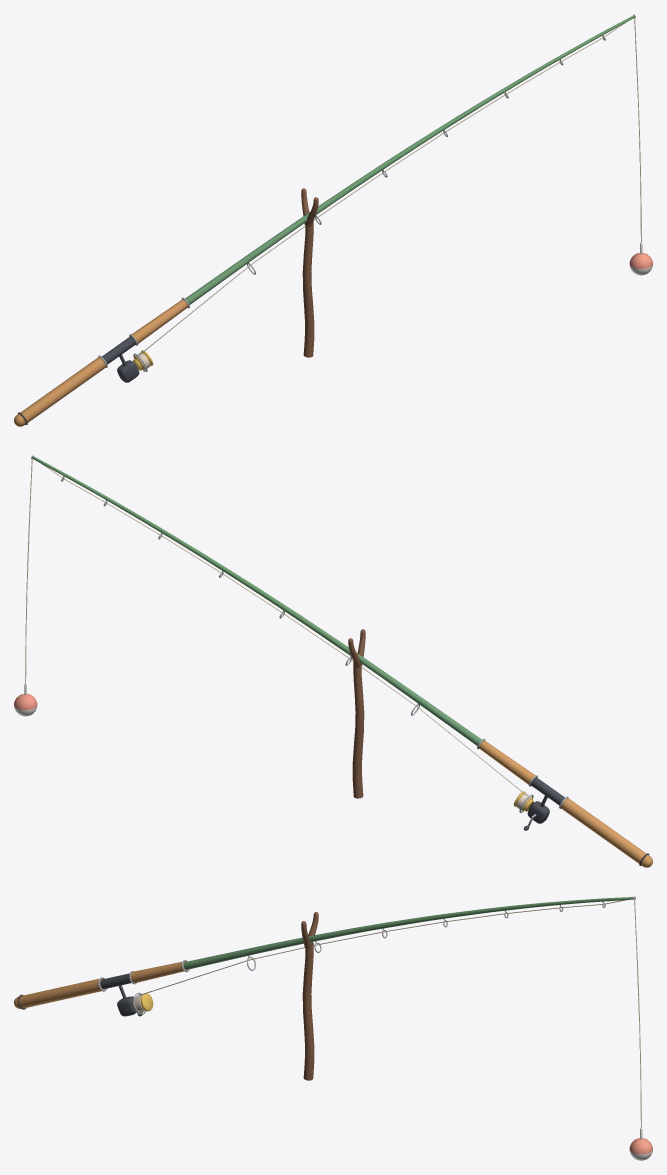
File: fishing-rod.glb
The picture shows the model from 3 angles, top to bottom: view 1: azimuth 30°, elevation 25°; view 2: azimuth 150°, elevation 25°; view 3: azimuth 330°, elevation 25°; orthographic projection.
Parts seen in each view (by area): view 1: fishing-rod_body; view 2: fishing-rod_body; view 3: fishing-rod_body.
Boxes of the visible parts, left/top/right/bottom form: fishing-rod_body: left=14, top=14, right=652, bottom=426; fishing-rod_body: left=14, top=455, right=652, bottom=867; fishing-rod_body: left=14, top=896, right=652, bottom=1160.
Bounding box in the file's own units: 1.9 × 0.7464 × 0.0864.
1 material, 1 textured.
